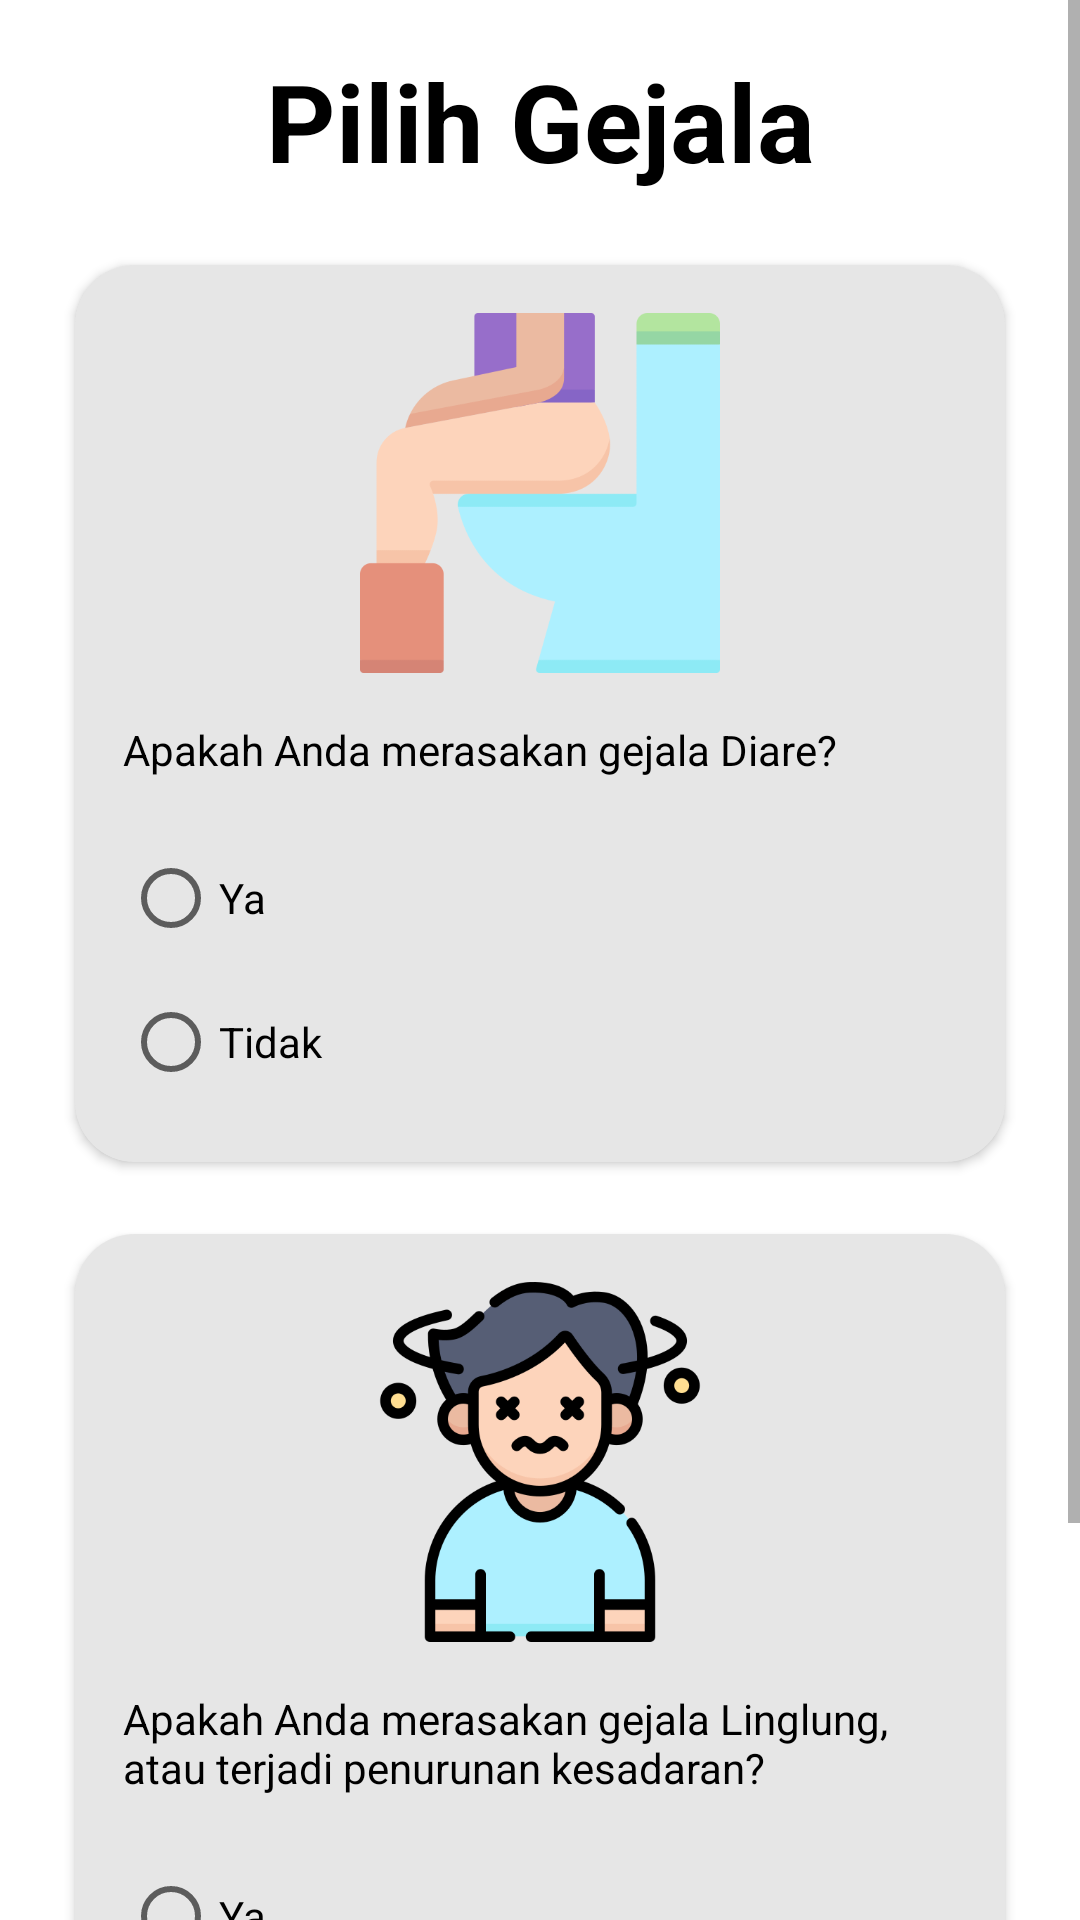

Icons on this 1080 × 1920 Android screen, each with its box as (x1, y1, x2, y2):
dizzy: (380, 1282, 700, 1642)
